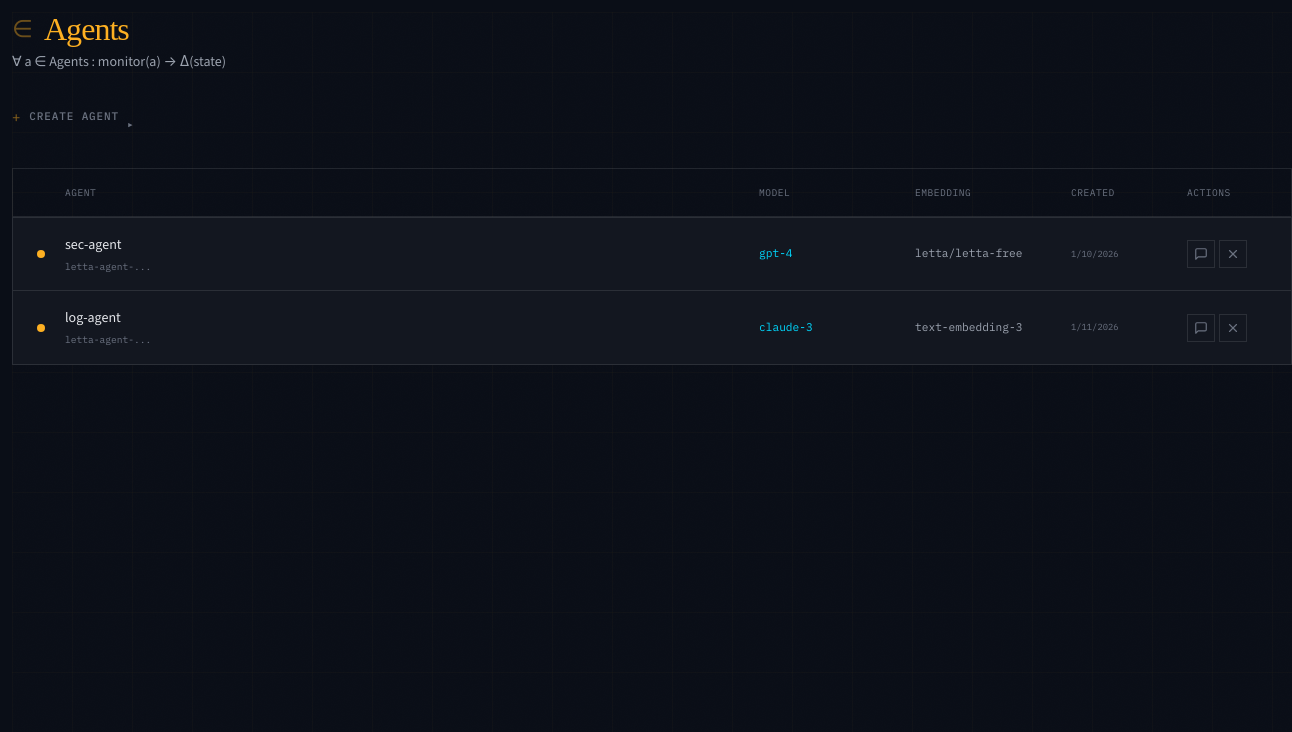
Test: Agents page › shows Details and Policy tabs in detail panel
The width and height of the screenshot is (1292, 732).
Click the text "sec-agent": x=93, y=245 [65,235,122,254]
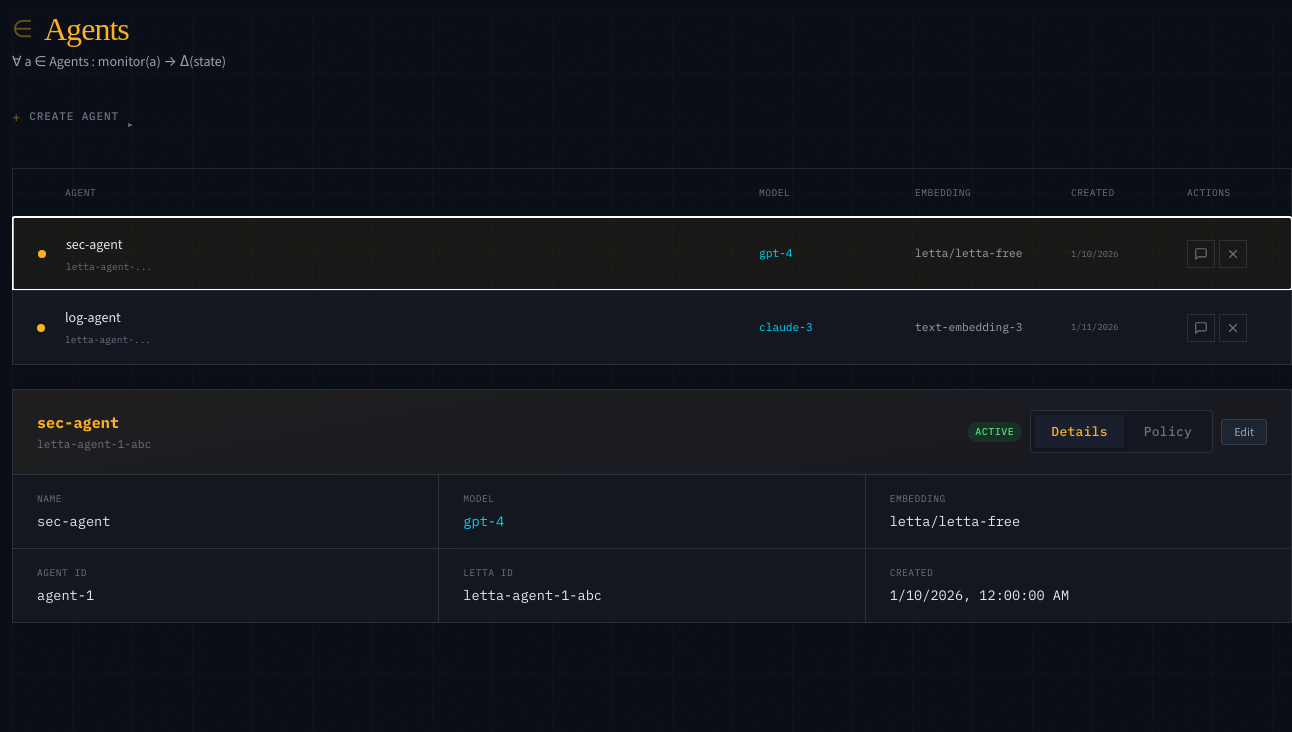
Result: the button "Details" is shown at [1035,415,1124,448]
Result: the button "Policy" is shown at [1128,415,1208,448]
